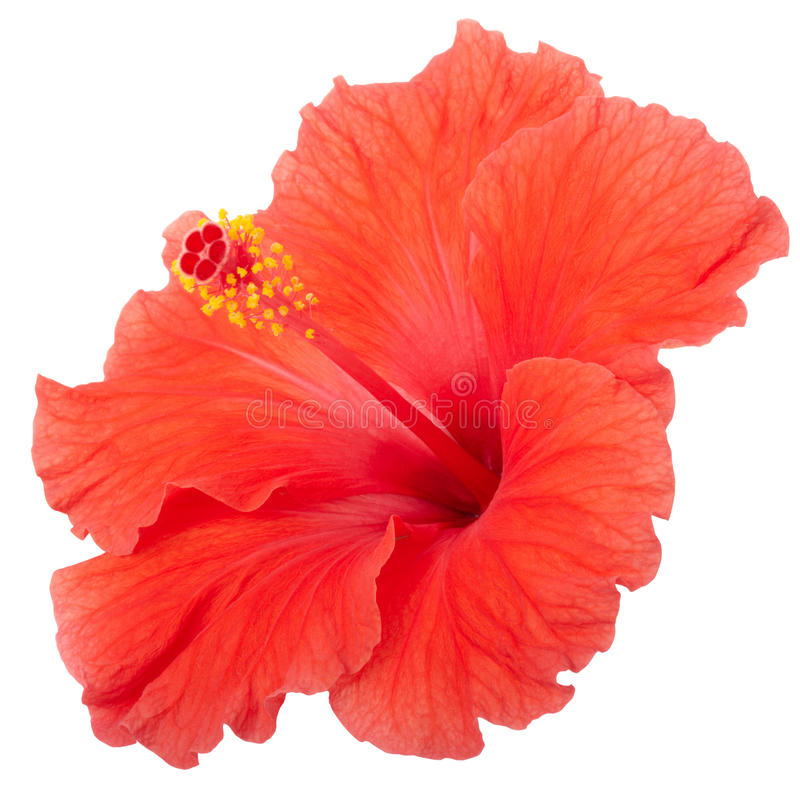Hibiscus: (19, 10, 795, 780)
